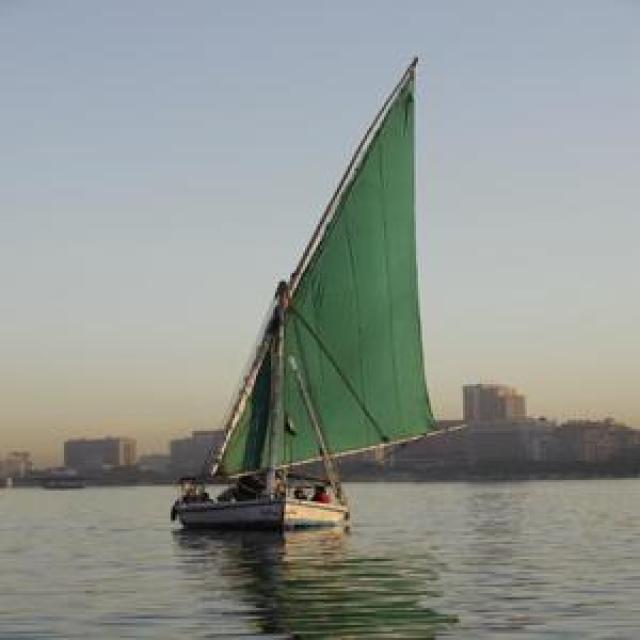sailboat: (148, 47, 458, 527)
